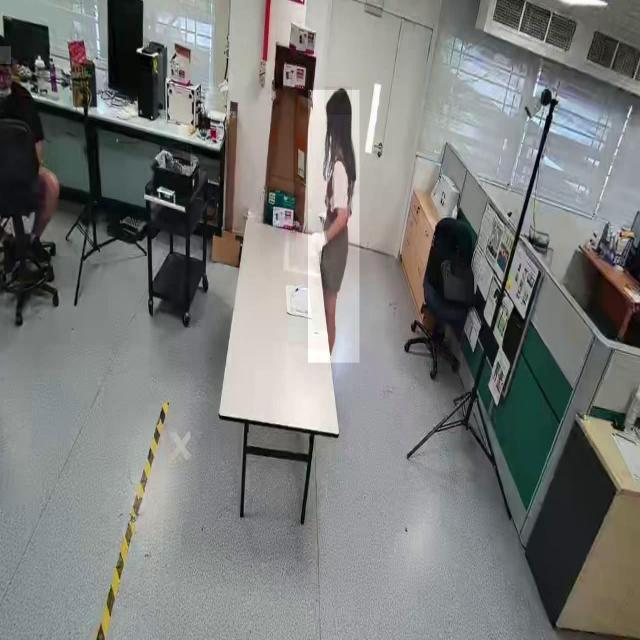gloves: (316, 220, 332, 260)
